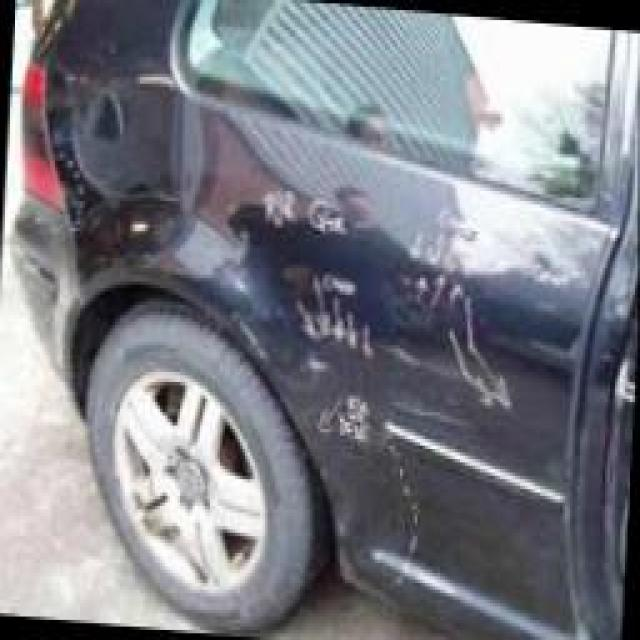Door: (128, 97, 545, 606)
